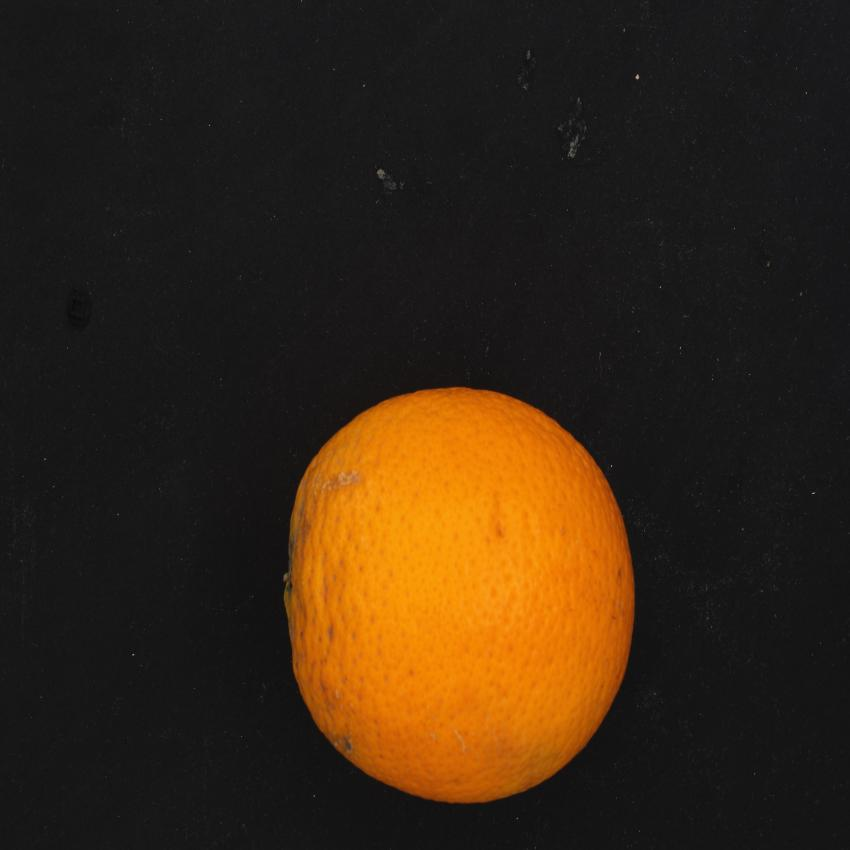Buen estado: (276, 374, 644, 816)
